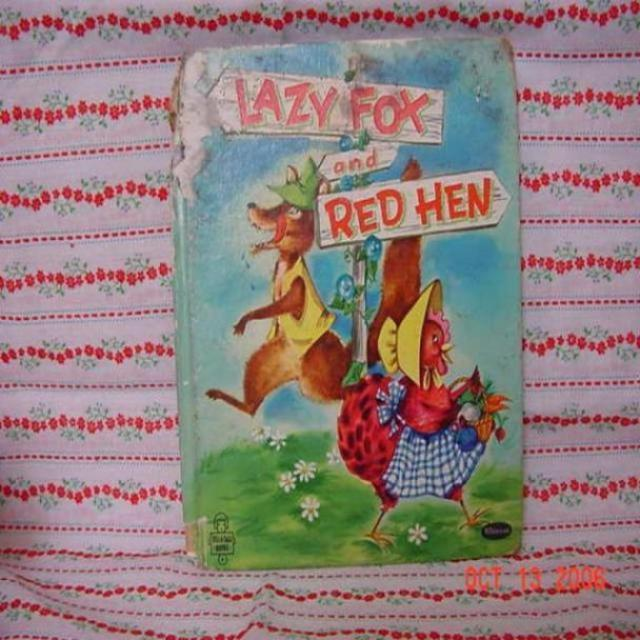Chicken: (300, 313, 517, 523)
